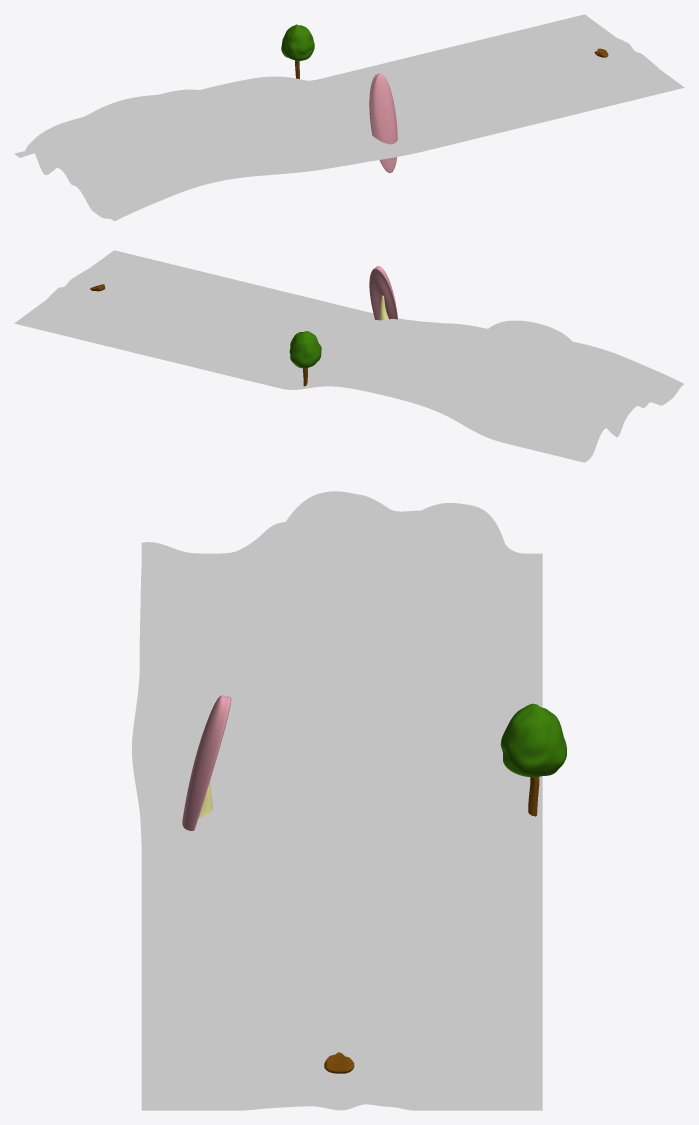
The model's file is assets.fbx.
3 views of the same model, one above another, from view 1: azimuth 30°, elevation 25°; view 2: azimuth 150°, elevation 25°; view 3: azimuth 270°, elevation 25° (orthographic). The views are drawn at different scales.
Parts seen in each view (by area): view 1: Plane, mushroom head, tree head; view 2: Plane, mushroom head, tree head; view 3: Plane, tree head, mushroom head.
Part boxes in pixels (x1=…): Plane: x1=14, y1=14, x2=684, y2=221; mushroom head: x1=369, y1=73, x2=397, y2=172; tree head: x1=281, y1=24, x2=314, y2=60; Plane: x1=14, y1=250, x2=684, y2=462; mushroom head: x1=369, y1=266, x2=397, y2=319; tree head: x1=289, y1=331, x2=321, y2=368; Plane: x1=132, y1=491, x2=542, y2=1110; tree head: x1=500, y1=703, x2=566, y2=777; mushroom head: x1=182, y1=695, x2=231, y2=830.
Bounding box in the file's own units: 1628 × 258 × 534.
